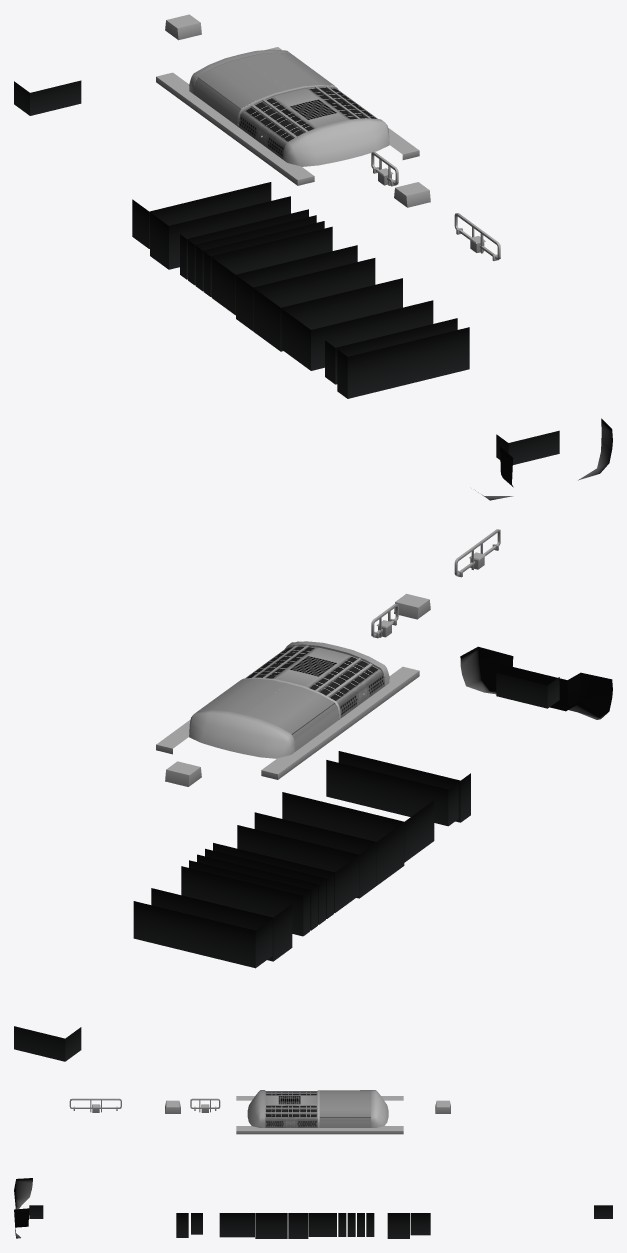
File: KQ_YANE00.glb
3 views of the same model, one above another, from view 1: azimuth 30°, elevation 25°; view 2: azimuth 150°, elevation 25°; view 3: azimuth 270°, elevation 25° (orthographic). The views are drawn at different scales.
Parts seen in each view (by area): view 1: obj11; view 2: obj11; view 3: obj11.
Part boxes in pixels (bbox=[...]): obj11: bbox=[14, 14, 612, 500]; obj11: bbox=[14, 529, 612, 1061]; obj11: bbox=[14, 1090, 612, 1238].
Size of the model in its own units: 6.04 by 8.63 by 37.72.
7 materials, 7 textured.
